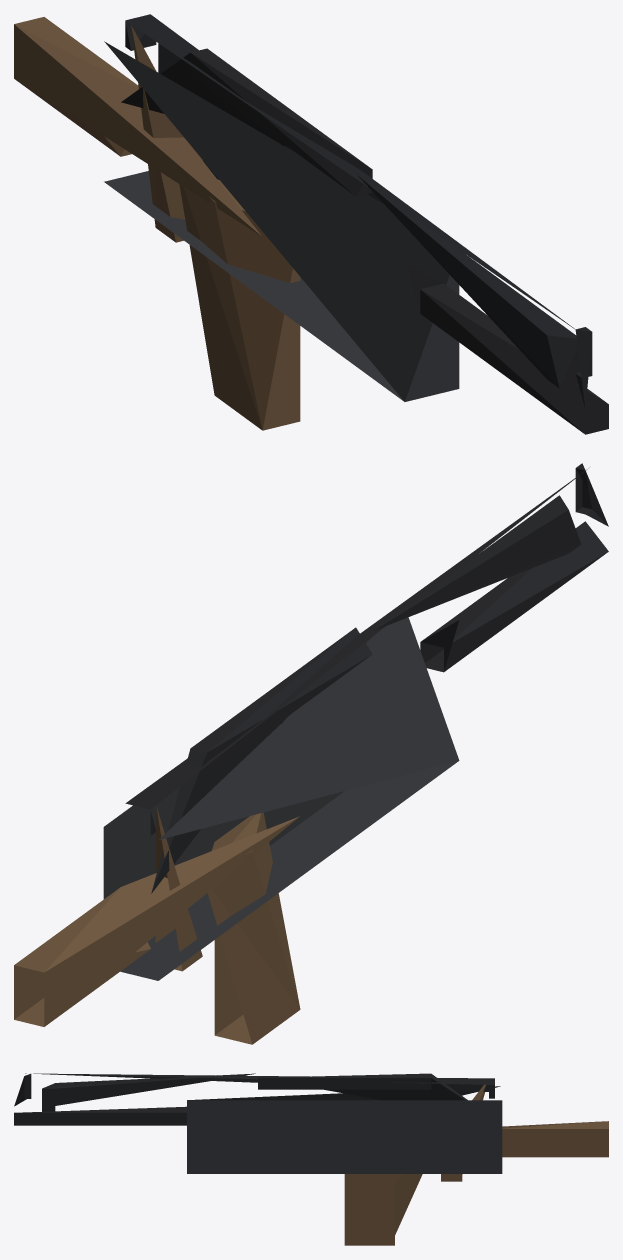
3 views of the same model, one above another, from view 1: azimuth 30°, elevation 25°; view 2: azimuth 150°, elevation 25°; view 3: azimuth 270°, elevation 25° (orthographic). The views are drawn at different scales.
Bounding box in the file's own units: 0.065 × 0.36 × 1.17.
